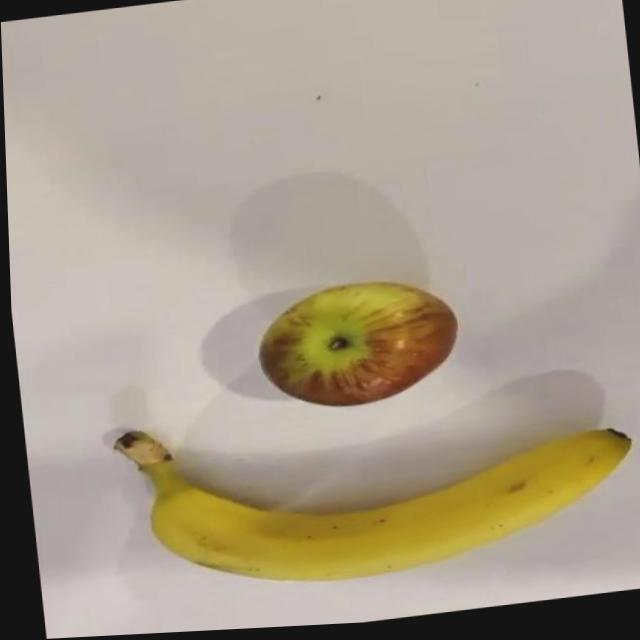Apple: (249, 274, 461, 419)
Banana: (106, 375, 638, 607)
